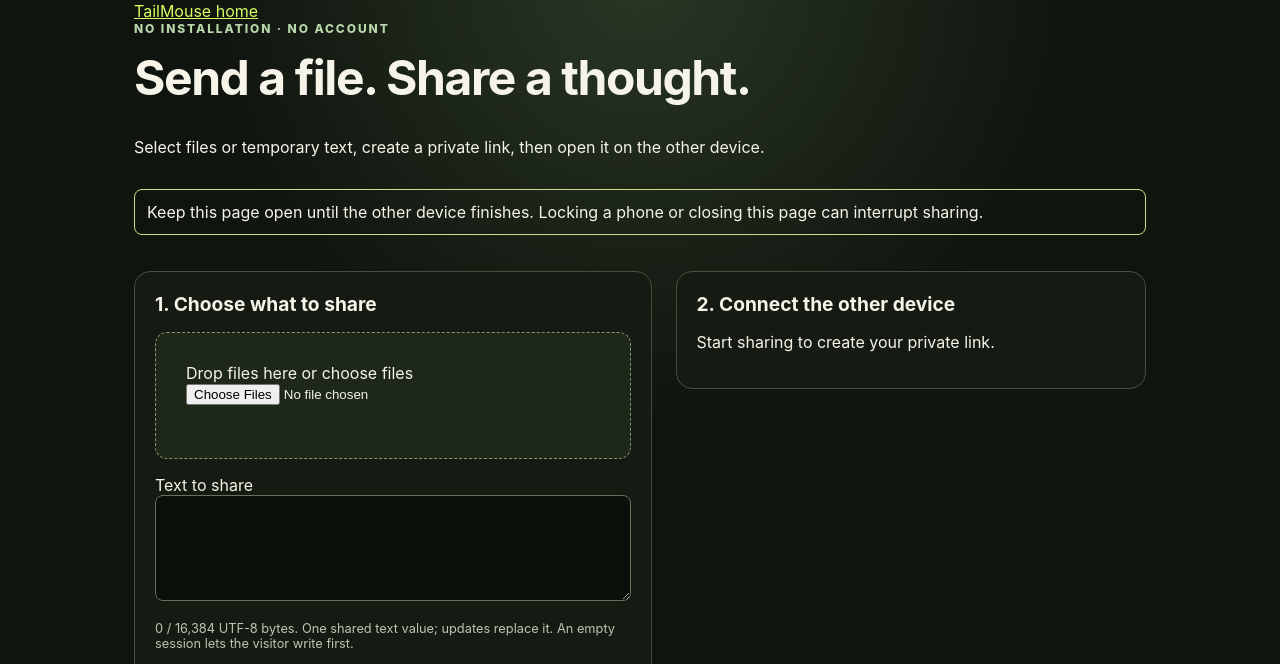
Test case: keeps selection and explains malformed configuration
This screenshot has width=1280, height=664.
Type "keep this draft" into the text box labelled "Text to share" at (393, 548), box 155,495 -> 630,601
(page scrolled)
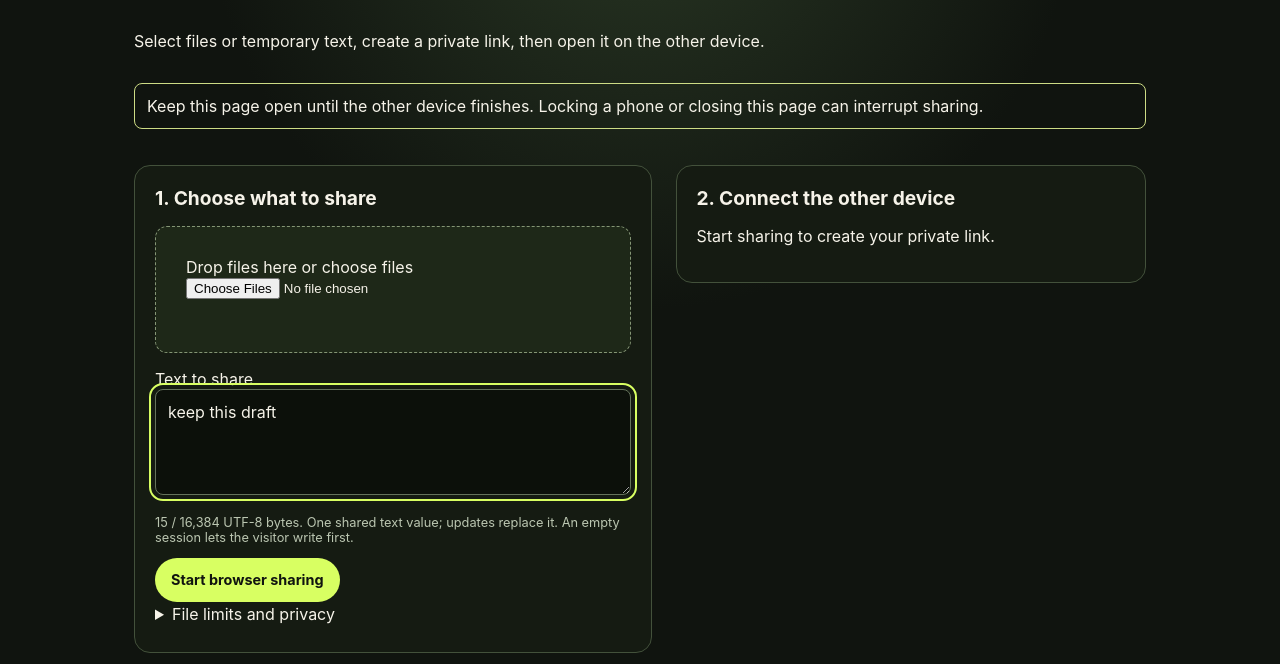
Click the button "Start browser sharing" at (247, 580), box 155,558 -> 340,602
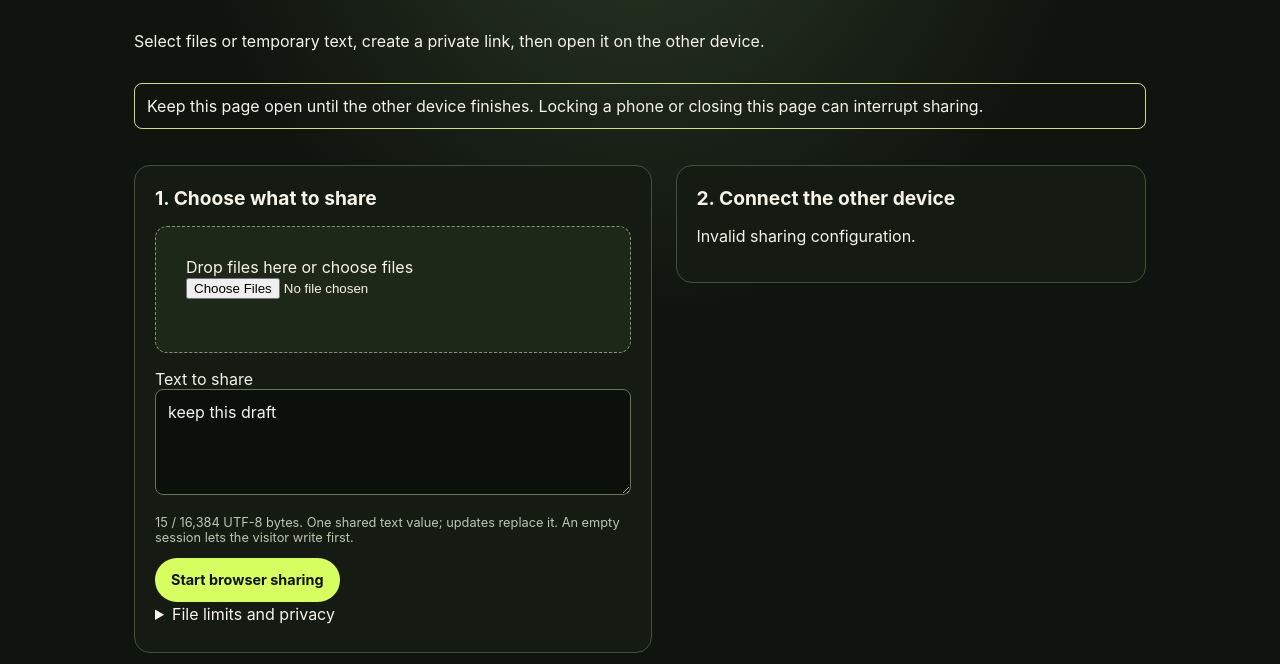
Expected: the message named "Session status" shows "Invalid sharing configuration", 696,226 -> 916,246
